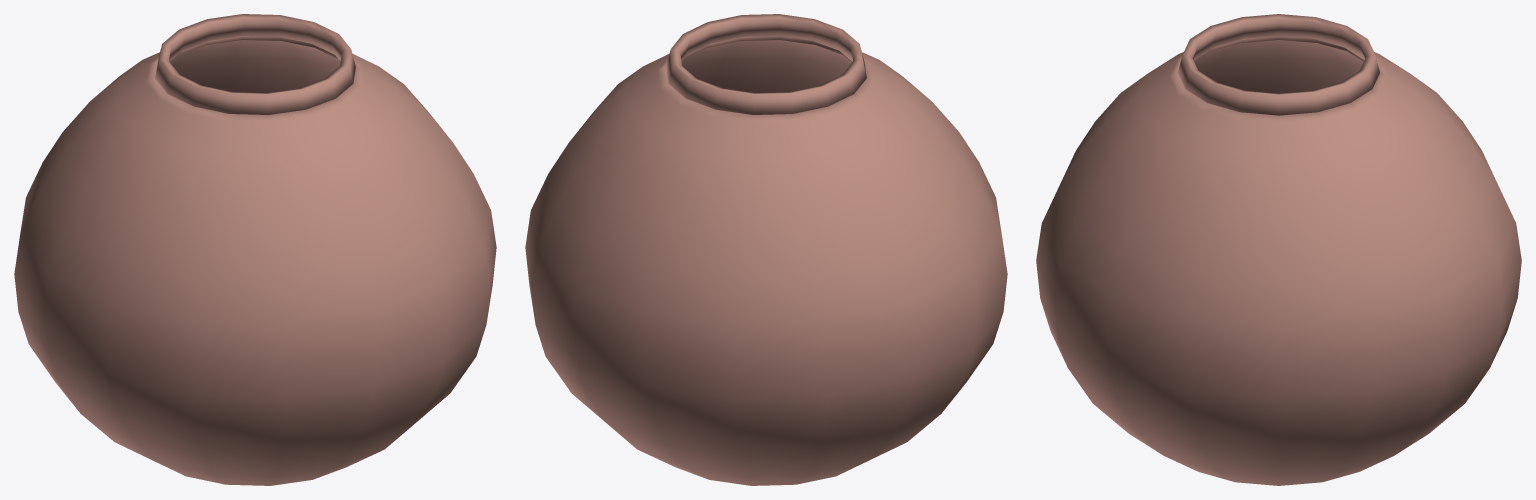
File: Pot_1.fbx
3 views of the same model, side by side, from view 1: azimuth 30°, elevation 25°; view 2: azimuth 150°, elevation 25°; view 3: azimuth 270°, elevation 25° (orthographic).
Visible parts, largest first — view 1: Pot_1; view 2: Pot_1; view 3: Pot_1.
Boxes of the visible parts, x1=… form: Pot_1: x1=14, y1=14, x2=496, y2=485; Pot_1: x1=525, y1=14, x2=1007, y2=485; Pot_1: x1=1036, y1=14, x2=1521, y2=485.
Bounding box in the file's own units: 0.165 × 0.1531 × 0.165.
